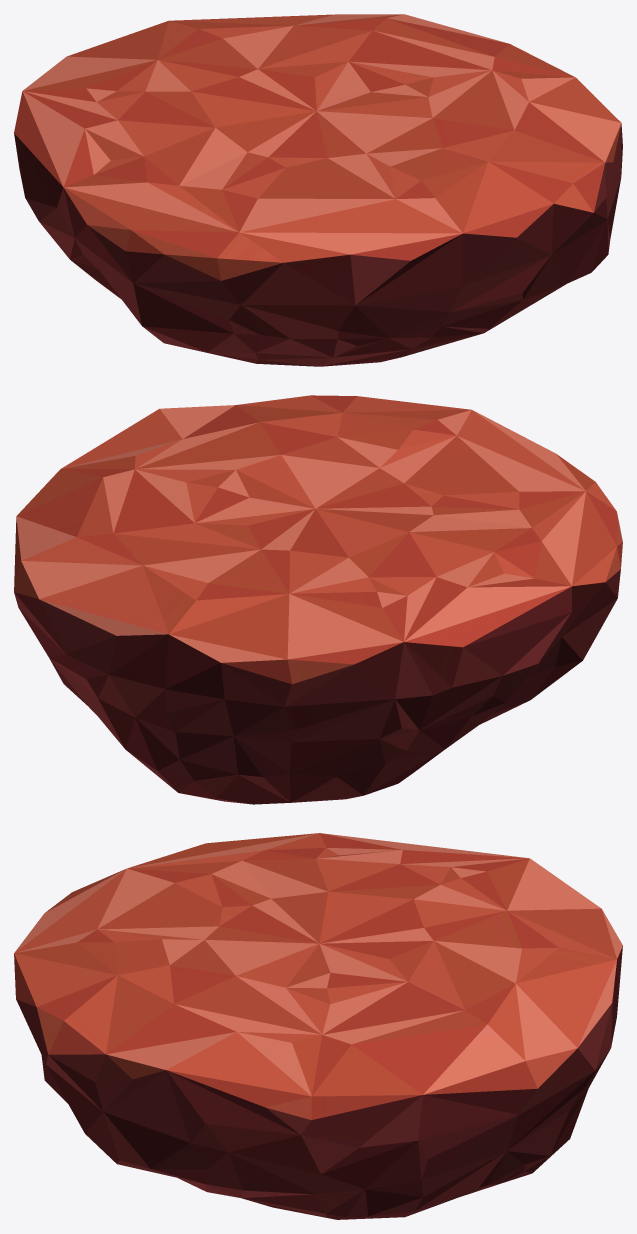
File: Circle_island_Low_Lvl_1.fbx
3 renders of one model, top to bottom at view 1: azimuth 30°, elevation 25°; view 2: azimuth 150°, elevation 25°; view 3: azimuth 270°, elevation 25°, orthographic.
Visible parts, largest first — view 1: polySurface1; view 2: polySurface1; view 3: polySurface1.
Boxes of the visible parts, left/top/right/bottom form: polySurface1: left=14, top=14, right=622, bottom=366; polySurface1: left=14, top=395, right=622, bottom=804; polySurface1: left=14, top=833, right=622, bottom=1219.
Size of the model in its own units: 943 by 435 by 941.
